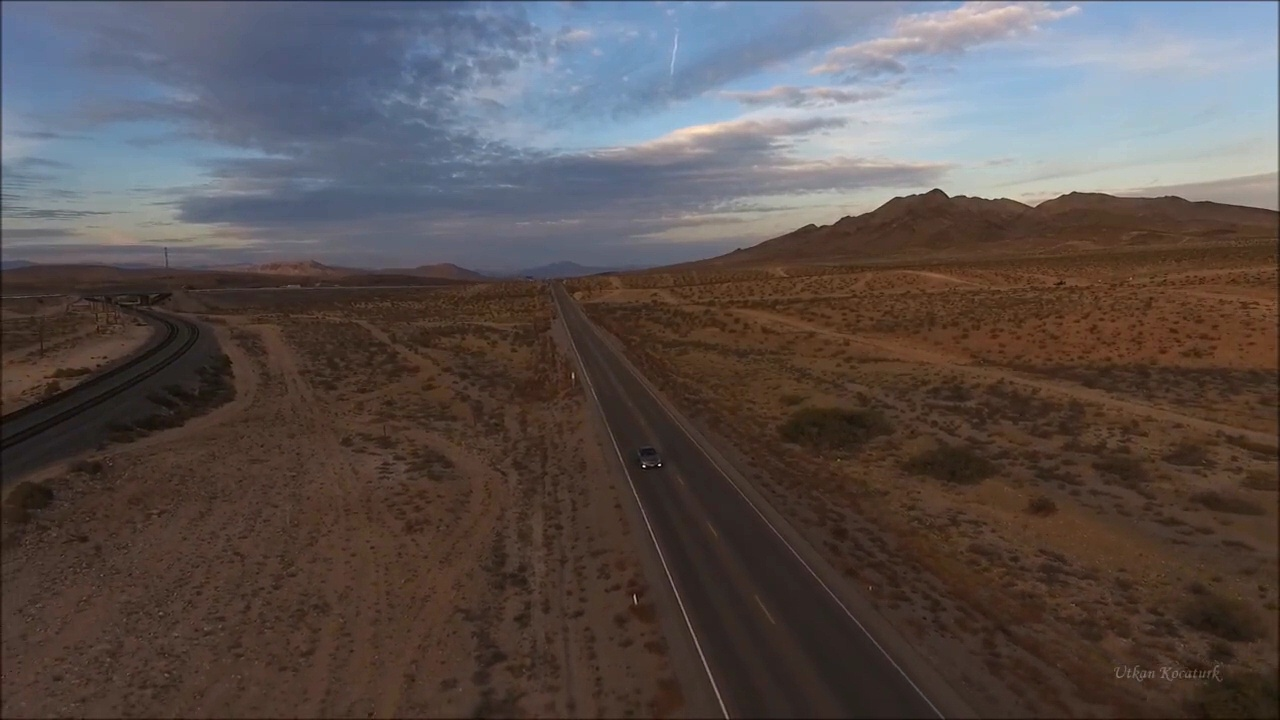araba: (633, 443, 662, 470)
